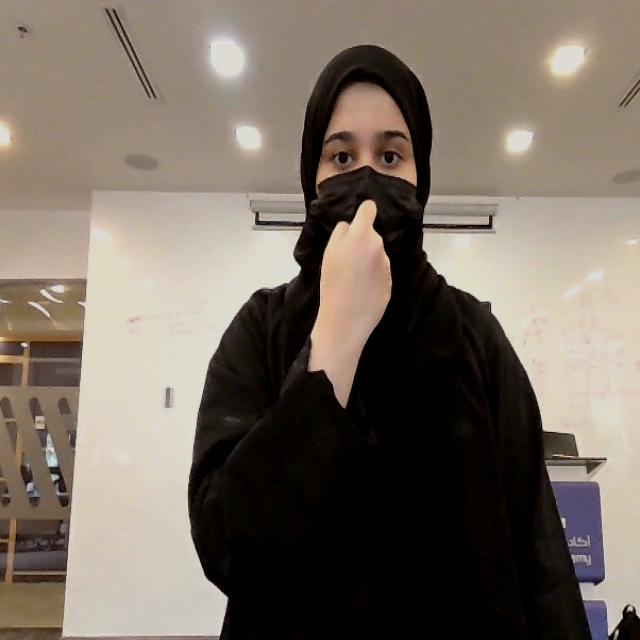medicine: (306, 197, 392, 408)
